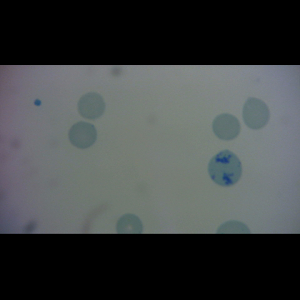aggregate reticulocyte: (206, 148, 243, 187)
erythrocyte: (241, 96, 271, 131), (76, 90, 107, 121), (211, 112, 242, 142)
punctate reticulocyte: (67, 120, 98, 151)
